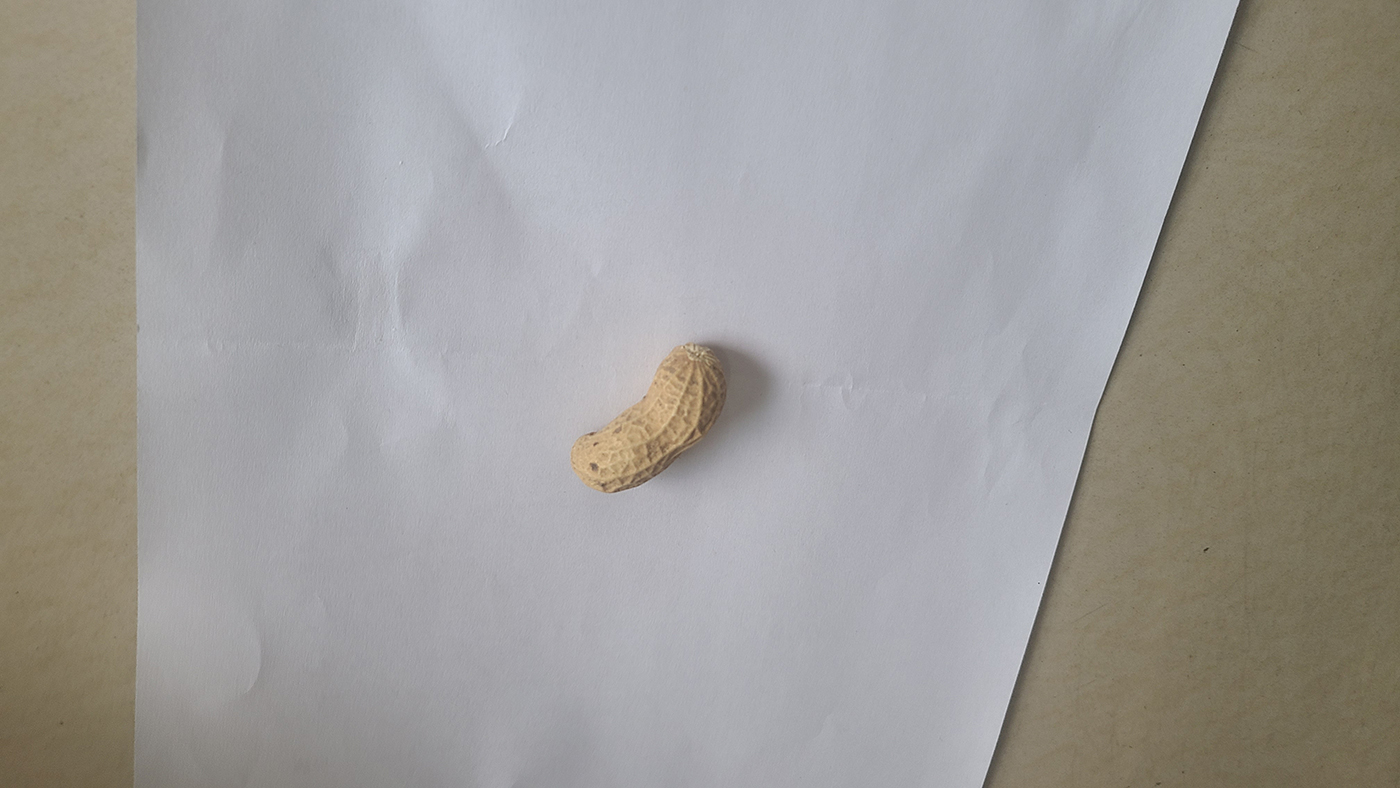h: (568, 341, 728, 494)
